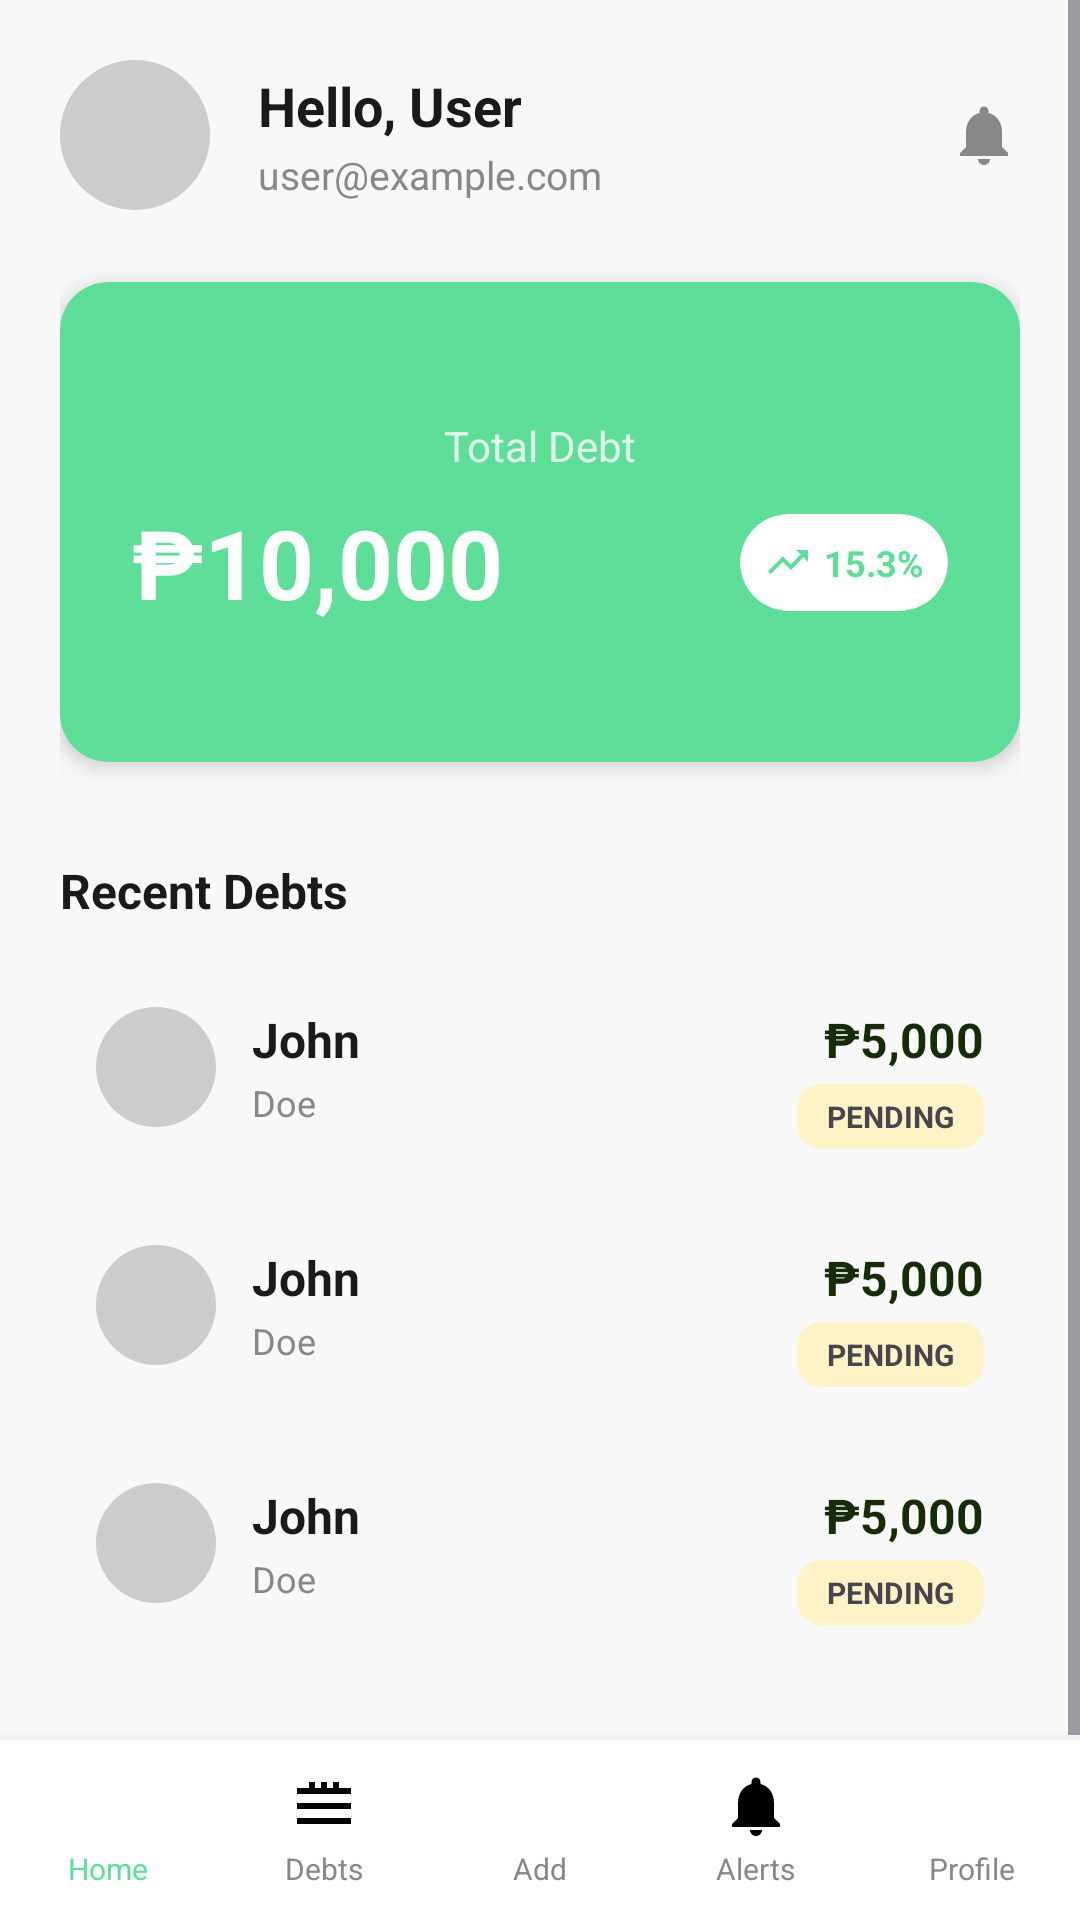

Screen size 1080x1920. Icon name, then its center in pixels as (x=x, y=y):
trend up: (x=788, y=562)
